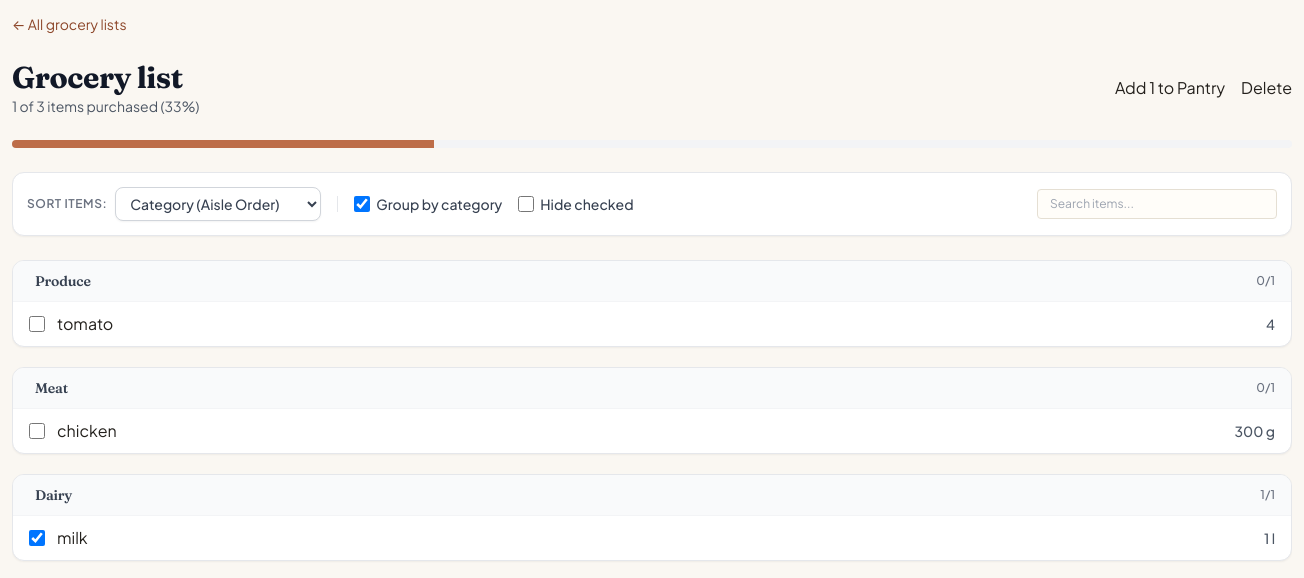
Test: GroceryDetailPage › allows sorting items alphabetically and ungroups categories
Expected: the text "tomato" is shown, [57, 312, 113, 336]
Select "Item Name (A → Z)" in the dropdown labelled "Sort items:" at (218, 204), box [115, 187, 321, 221]
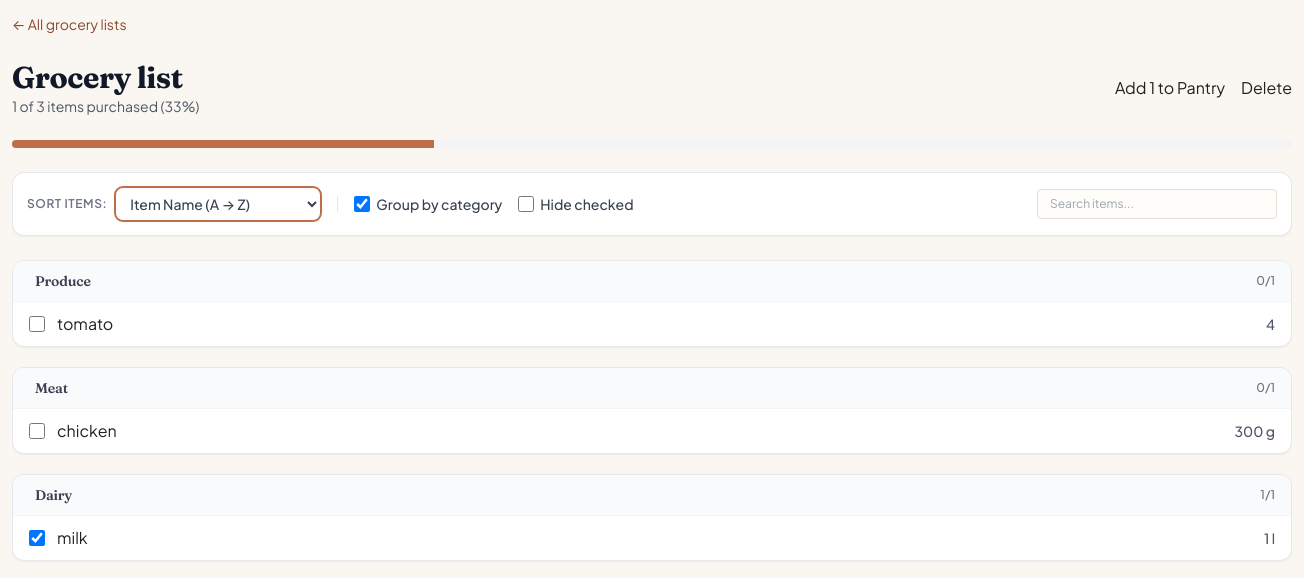
Click the checkbox labelled "Group by category".
click(362, 204)  # box [354, 196, 370, 212]
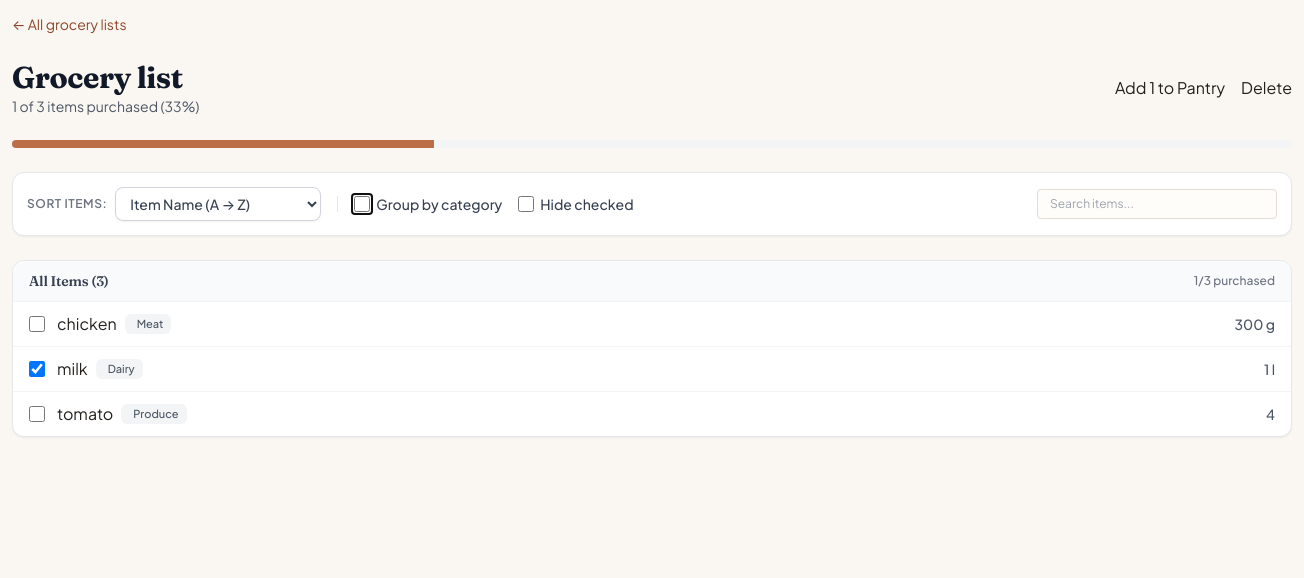
Expected: the text "chicken" is shown, [57, 312, 117, 336]
Expected: the heading "All Items (3)" is shown, [29, 271, 109, 291]
